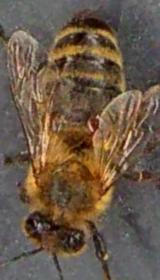varroa_mite: (82, 112, 110, 138)
